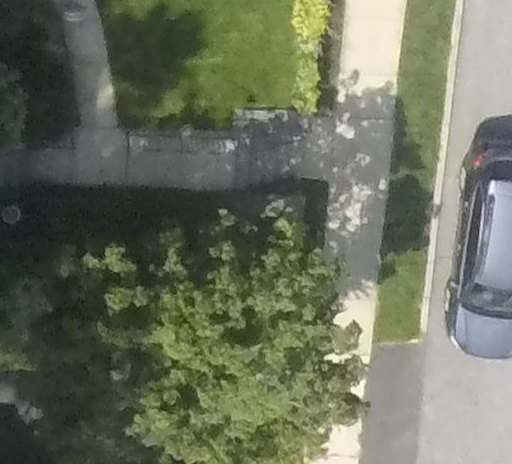container: (1, 206, 22, 230)
